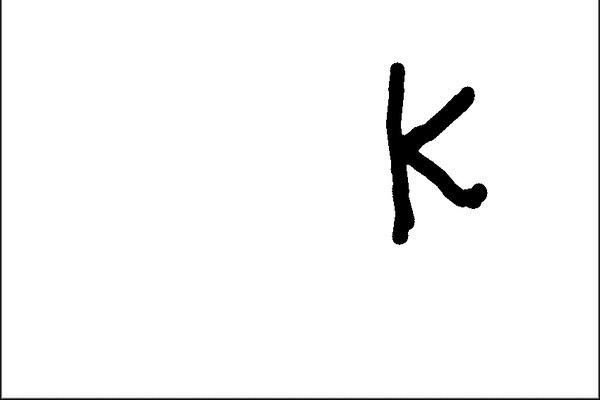K: (377, 52, 495, 253)
